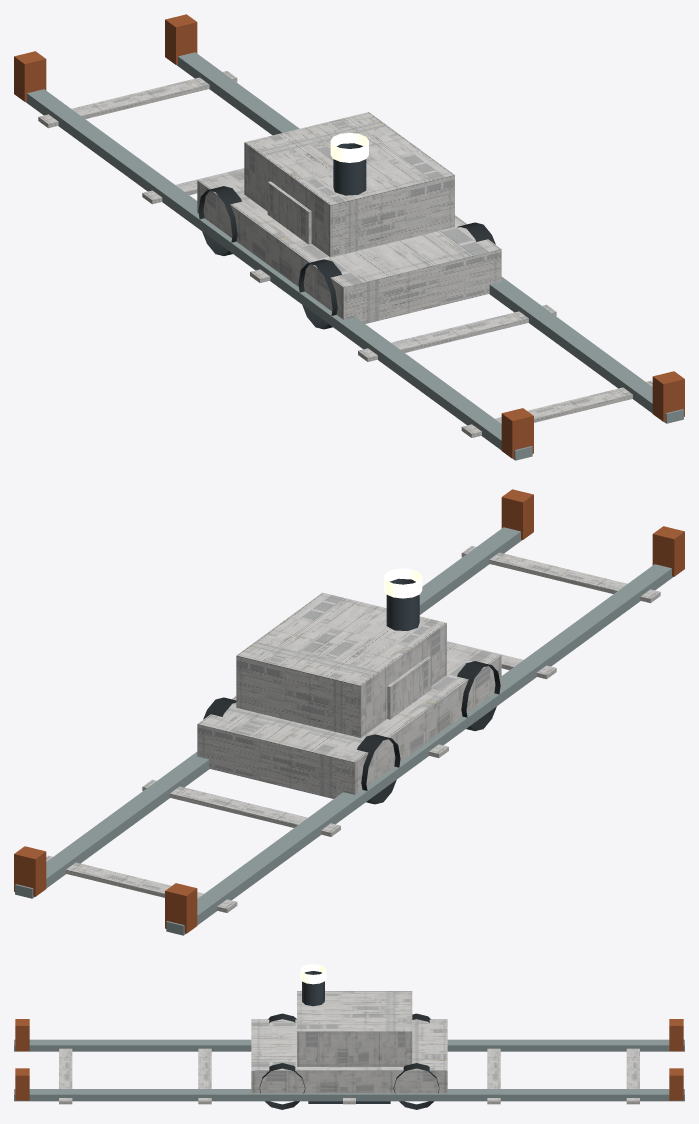
Rendered from Receiver.fbx.
3 views of the same model, one above another, from view 1: azimuth 30°, elevation 25°; view 2: azimuth 150°, elevation 25°; view 3: azimuth 270°, elevation 25° (orthographic). The views are drawn at different scales.
Visible parts, largest first — view 1: receiver_carriage, receiver_track, survey_head; view 2: receiver_carriage, receiver_track, survey_head; view 3: receiver_carriage, receiver_track.
Part boxes in pixels (x1,y1,x2,y2): receiver_carriage: (197, 112, 501, 329); receiver_track: (14, 14, 684, 460); survey_head: (267, 181, 311, 244); receiver_carriage: (197, 568, 501, 804); receiver_track: (14, 489, 684, 935); survey_head: (387, 656, 431, 719); receiver_carriage: (251, 964, 447, 1109); receiver_track: (14, 1019, 684, 1104).
Bounding box in the file's own units: 0.85 × 0.669 × 3.9.
9 materials, 3 textured.
